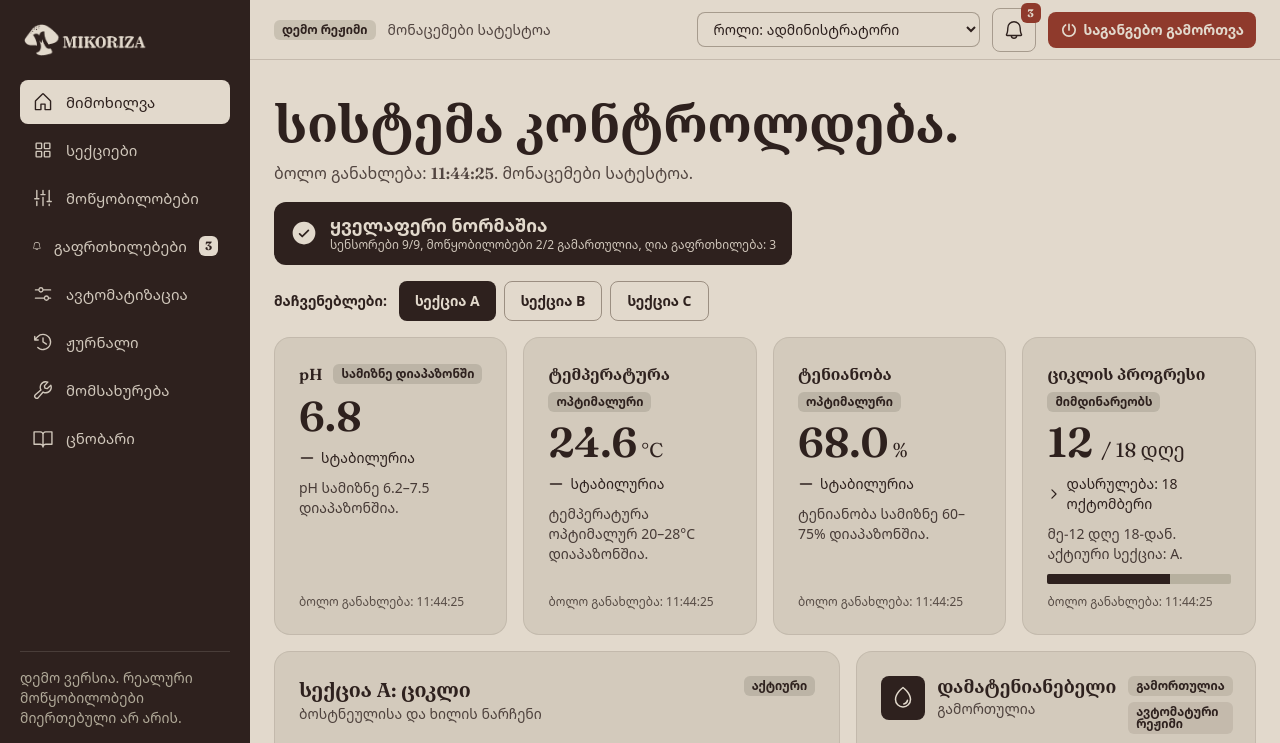
it: admin dashboard › toggles a rule as admin but not as viewer
The width and height of the screenshot is (1280, 743).
Check: the heading "სისტემა კონტროლდება." is shown, box [274,92,959,156]
Click the link "ავტომატიზაცია" at [110, 294], box [32,283,188,305]
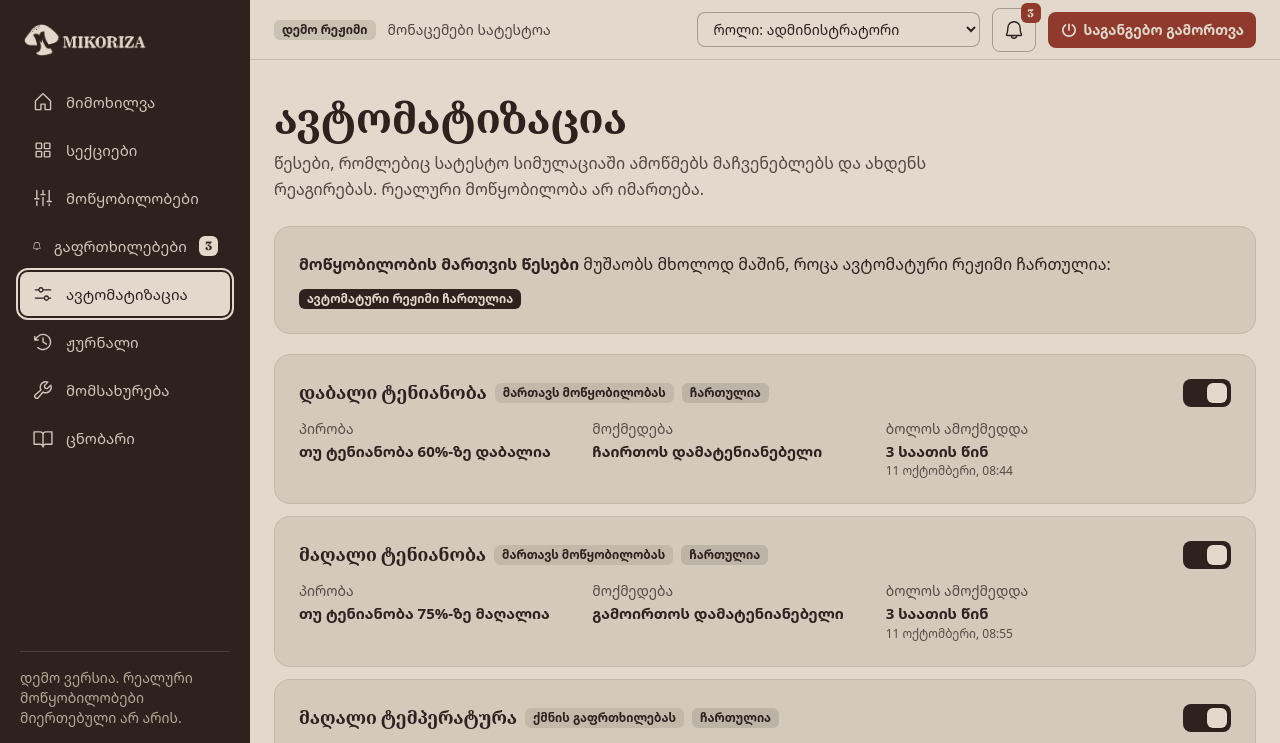
Note: პანელი ადმინისტრატორის როლით იხსნება, ამიტომ წესი მაშინვე იცვლება
Click the switch named "წესი: დაბალი ტენიანობა" at [1207, 393], box [1183,379,1231,407]
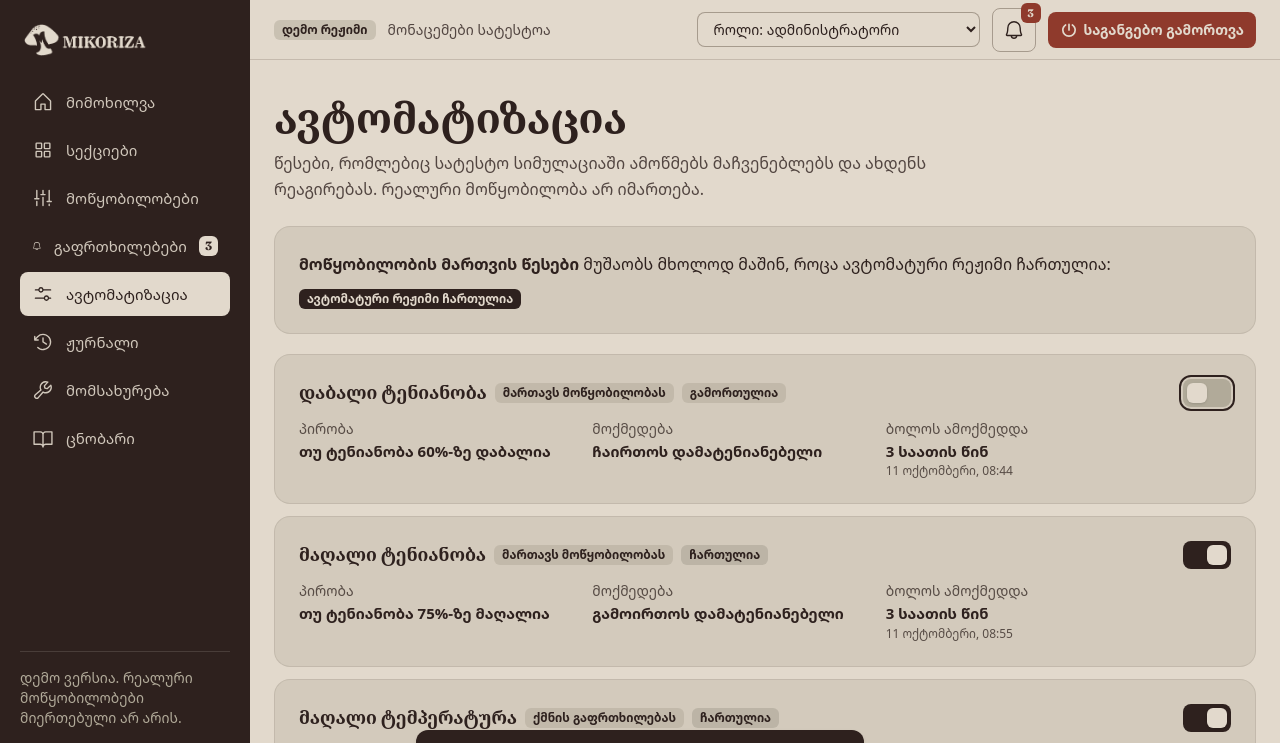
Check: the switch named "წესი: დაბალი ტენიანობა" is not checked, box [1183,379,1231,407]
Select "როლი: ოპერატორი" in the dropdown named "დემო როლი" at [838, 30], box [697,12,980,47]
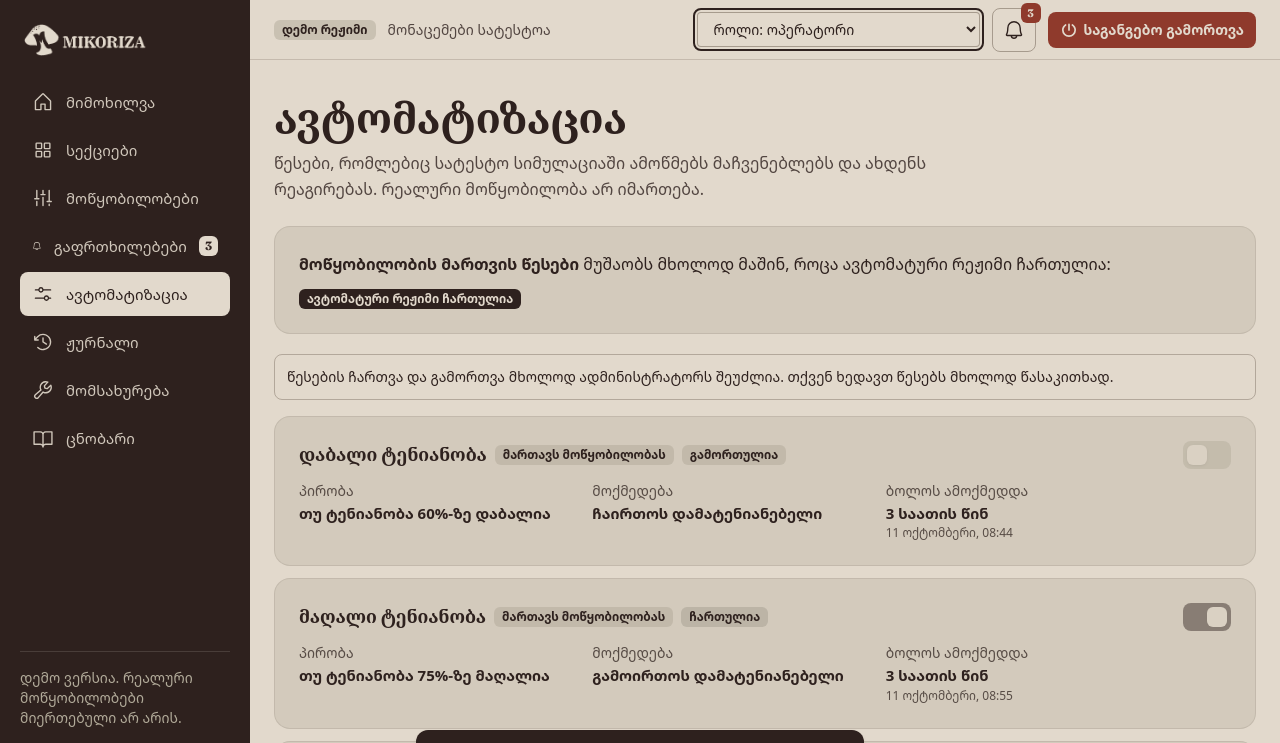
Check: the switch named "წესი: დაბალი ტენიანობა" is disabled, box [1183,441,1231,469]
Select "როლი: დამკვირვებელი" in the dropdown named "დემო როლი" at [838, 30], box [697,12,980,47]
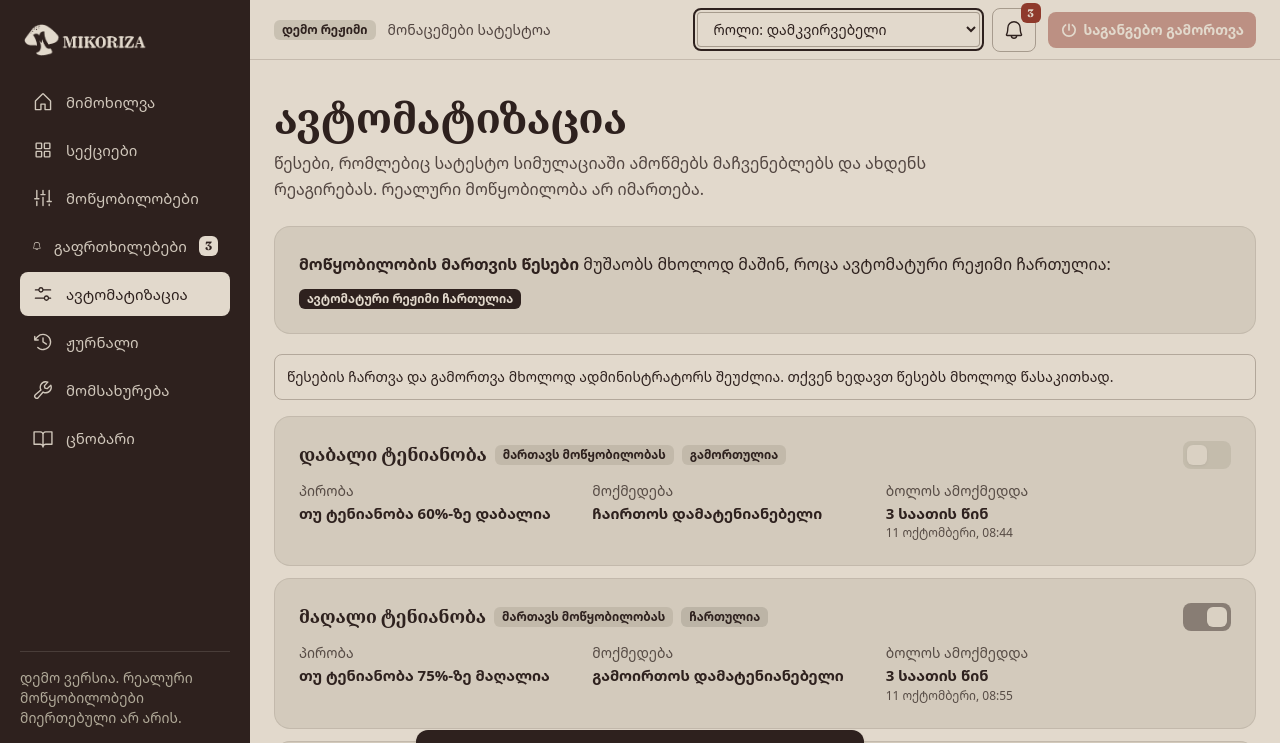
Click the link "მოწყობილობები" at [115, 198], box [32,187,199,209]
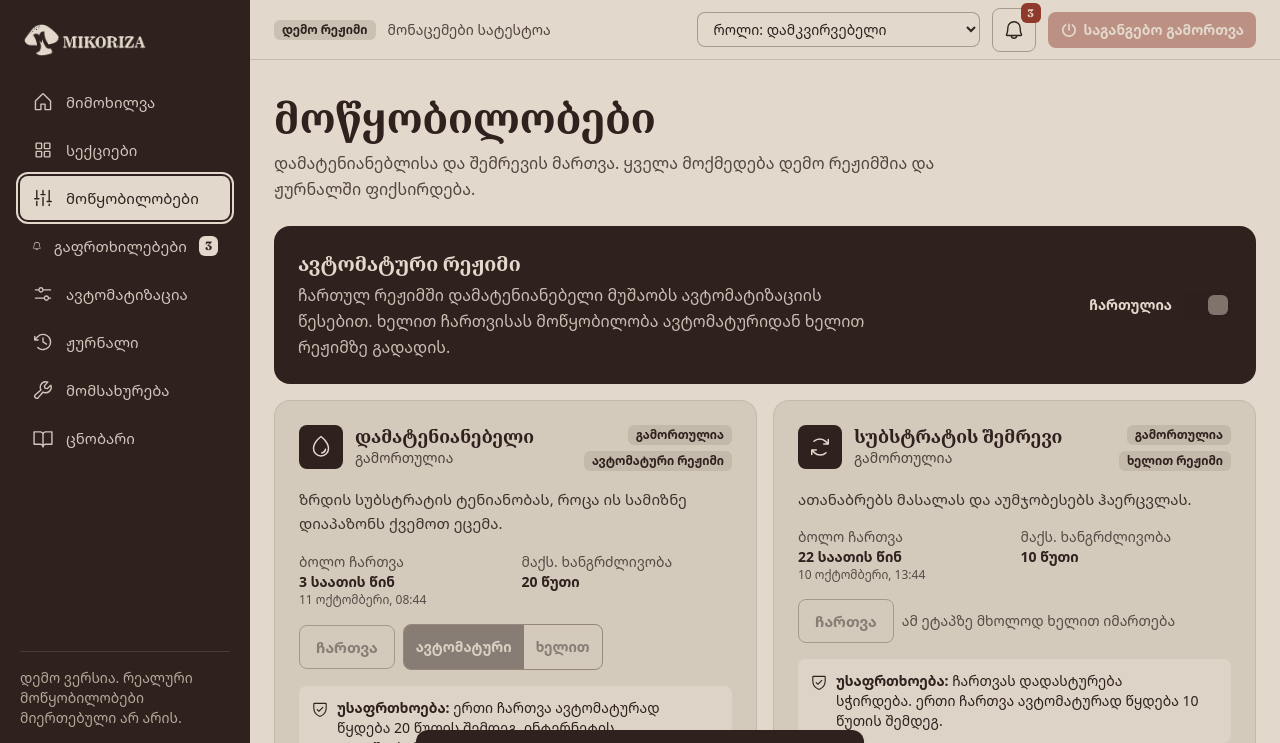
Check: the button "ჩართვა" below "11 ოქტომბერი, 08:44" is disabled, box [299,625,395,669]
